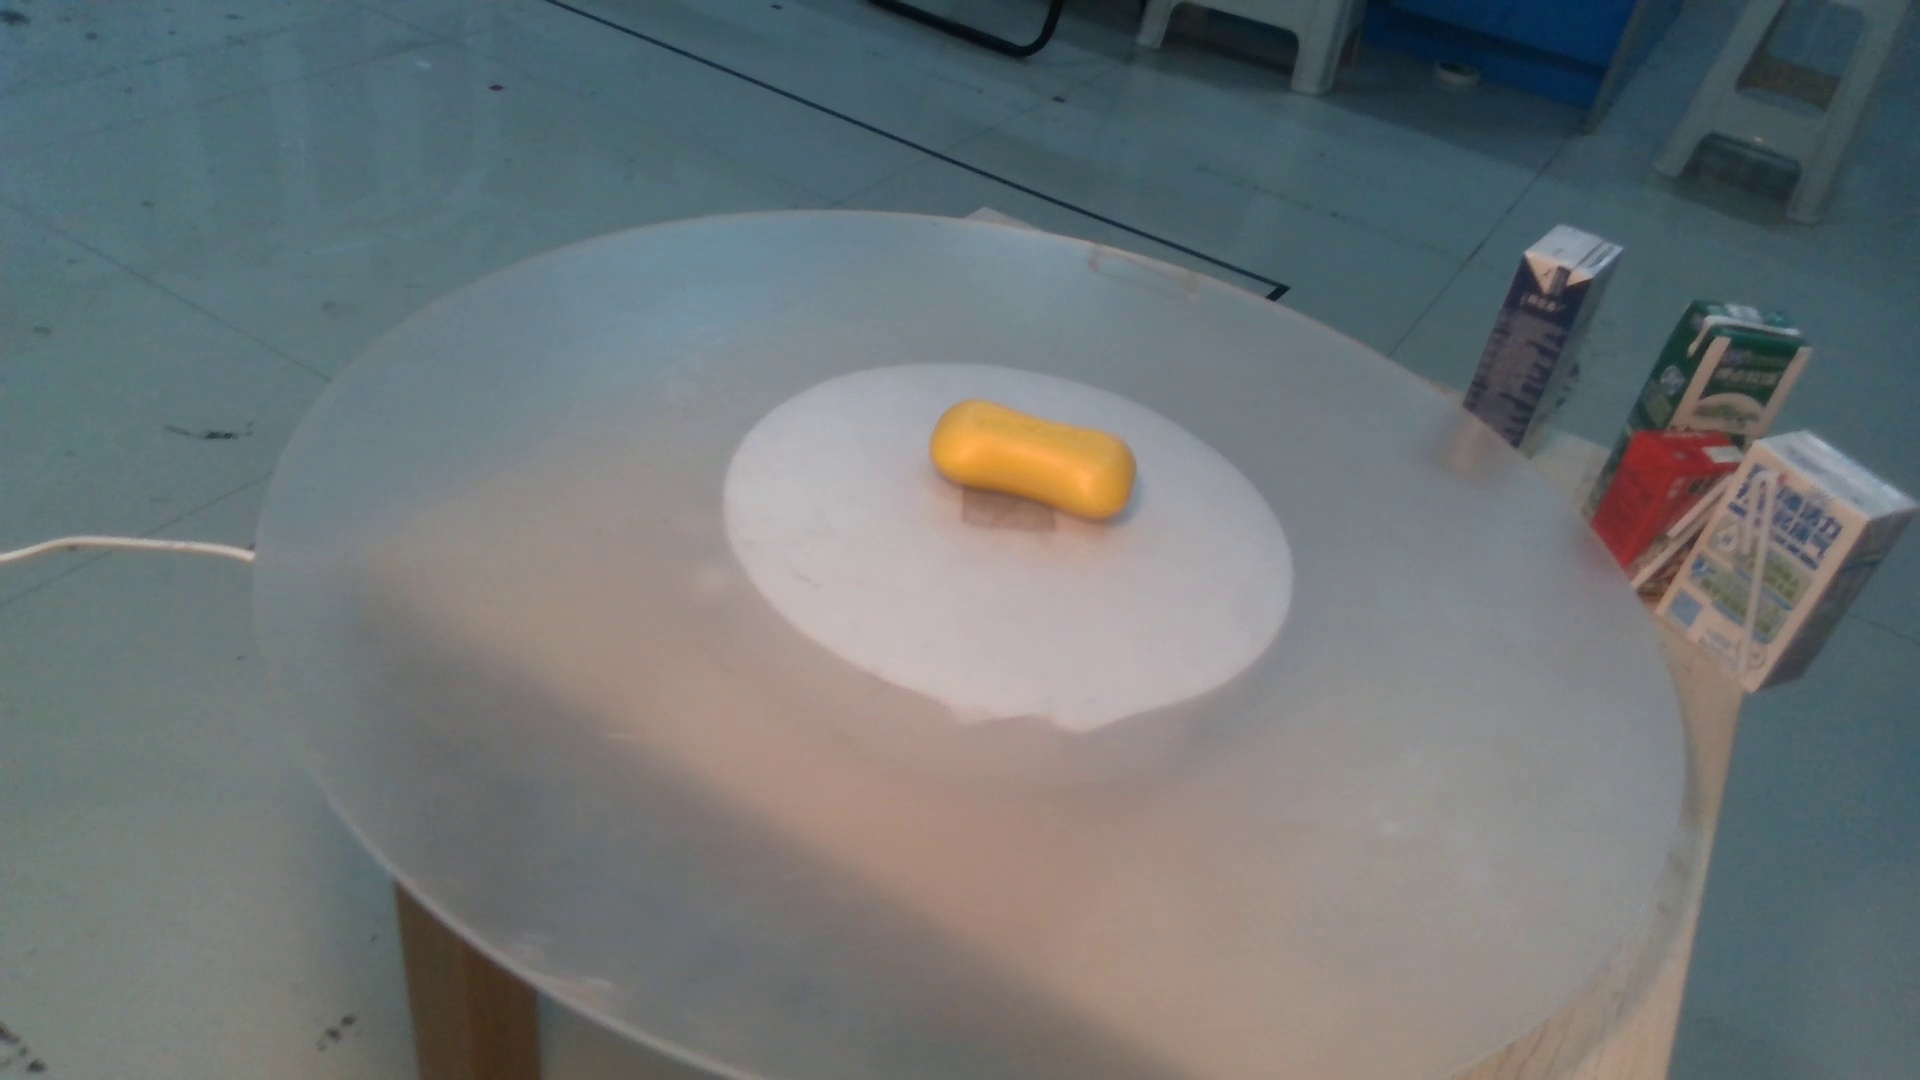CA003_1: (915, 377, 1164, 545)
